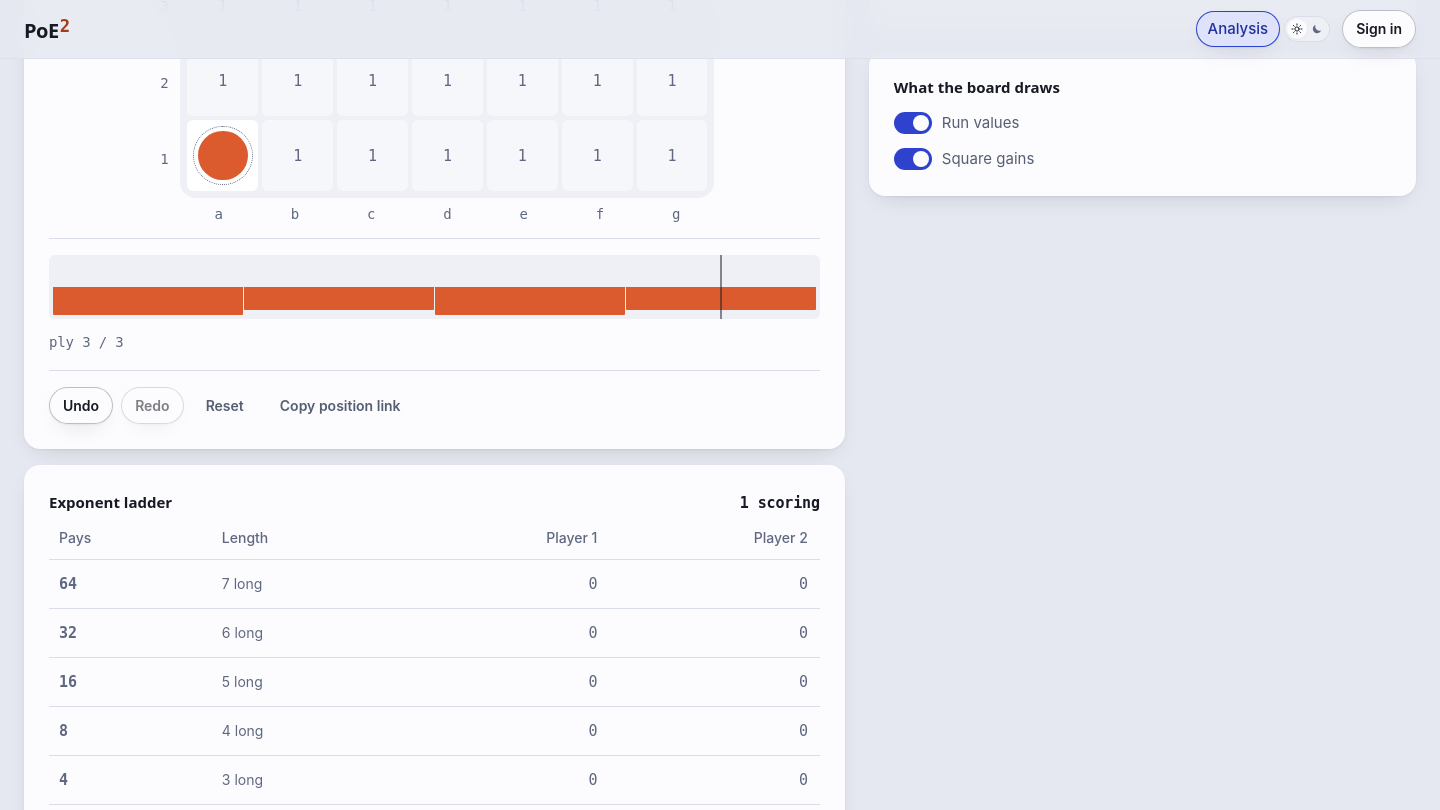
Test: analysis page › supports undo, redo, branching, and reset
(page scrolled)
Click the button "Undo" at (81, 406), box [49,387,113,424]
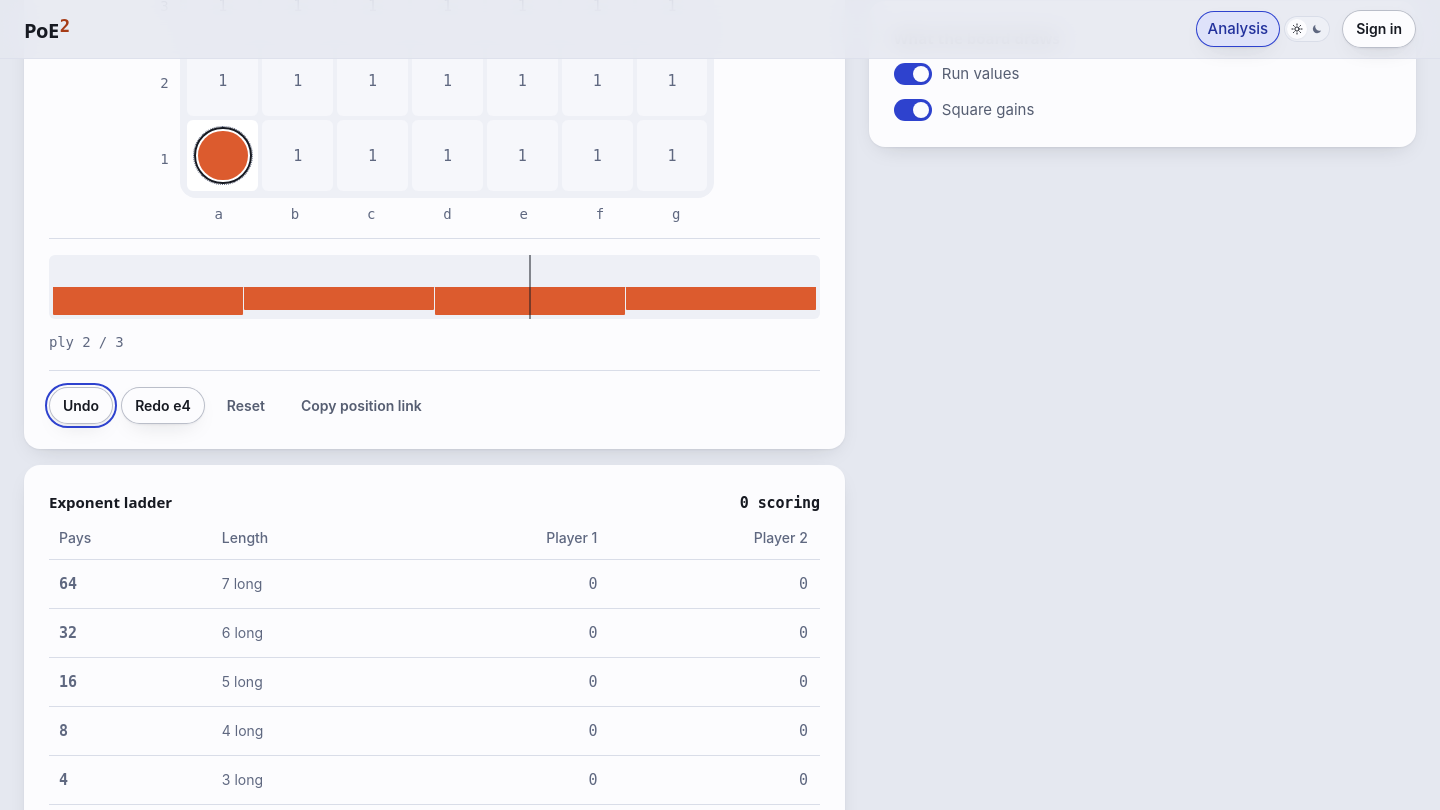
expect the button "Redo e4" is enabled: met
Click the button "Redo e4" at (163, 406), box [121,387,205,424]
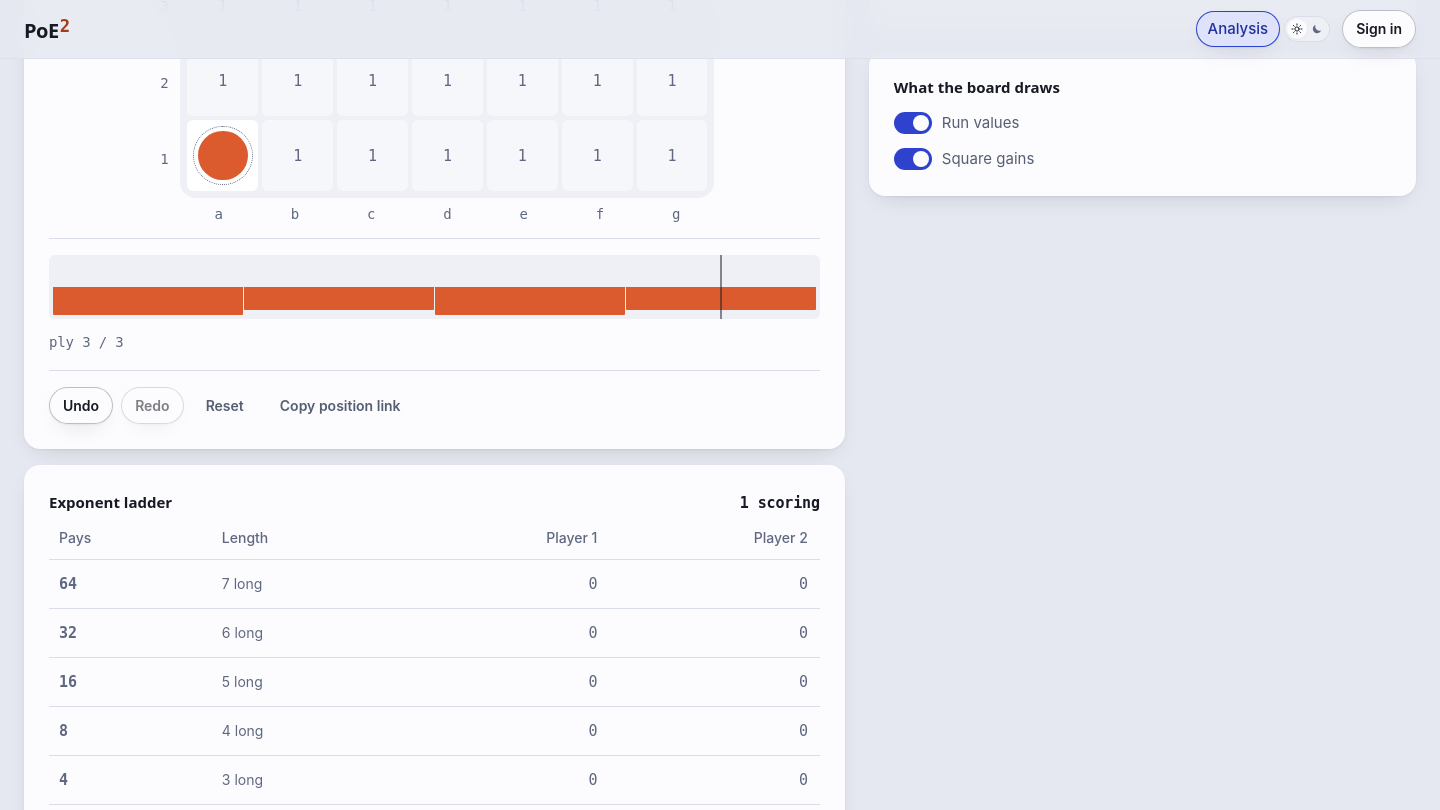
Click the button "Undo" at (81, 406), box [49,387,113,424]
(page scrolled)
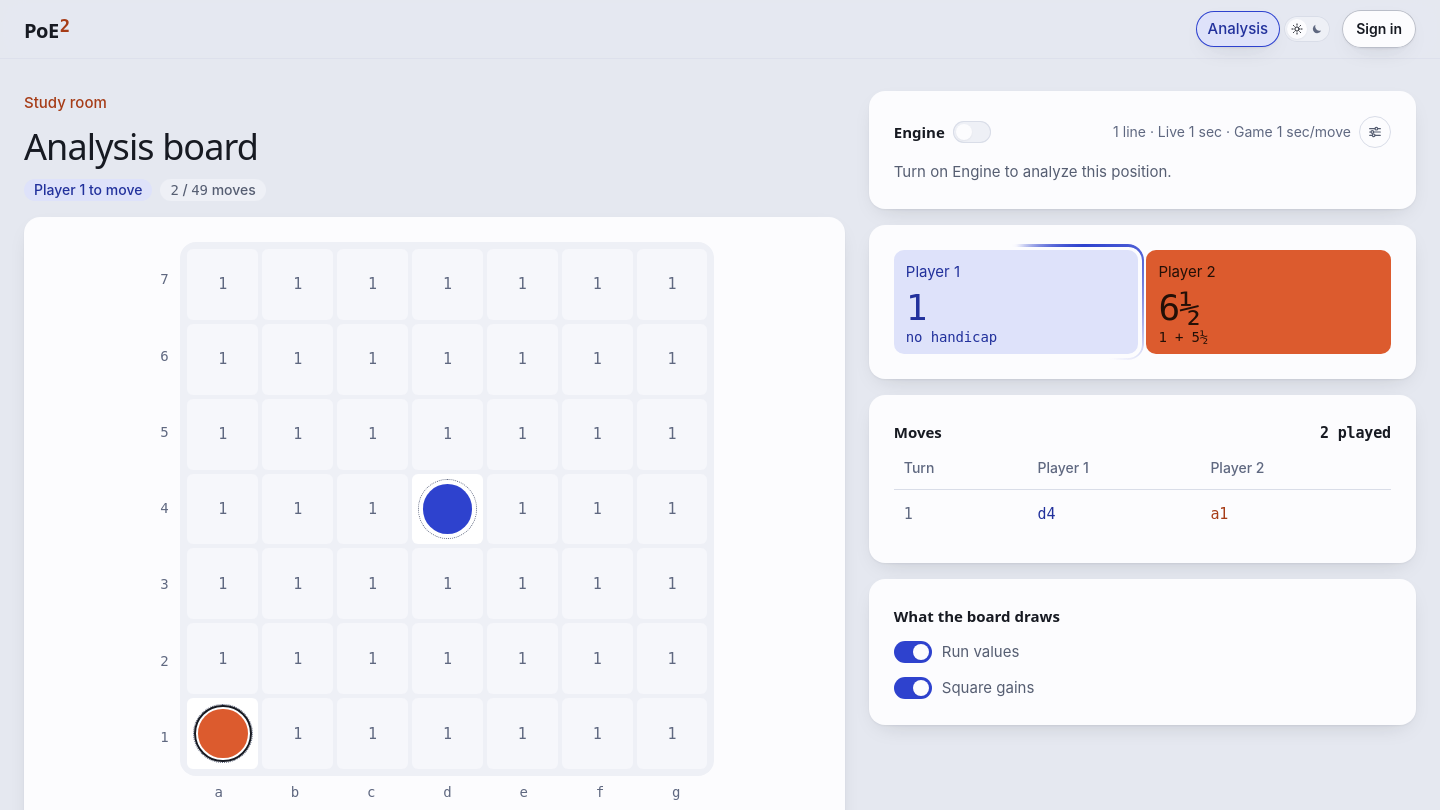
Click the 7th cell "1" at (672, 284), box [634,247,709,322]
(page scrolled)
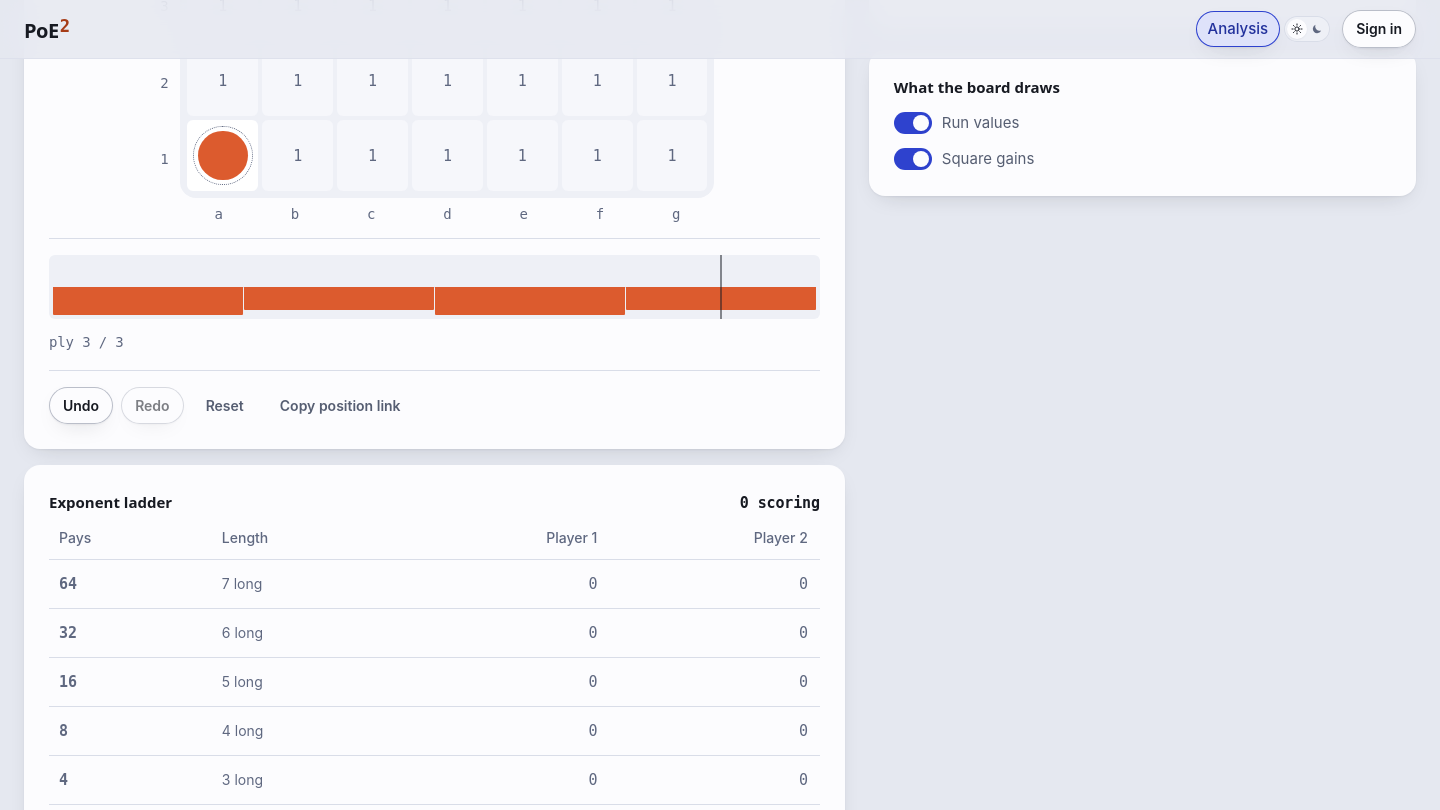
expect the button "Redo" is disabled: met, box [121,387,184,424]
Click the button "Reset" at (225, 406), box [192,387,258,424]
(page scrolled)
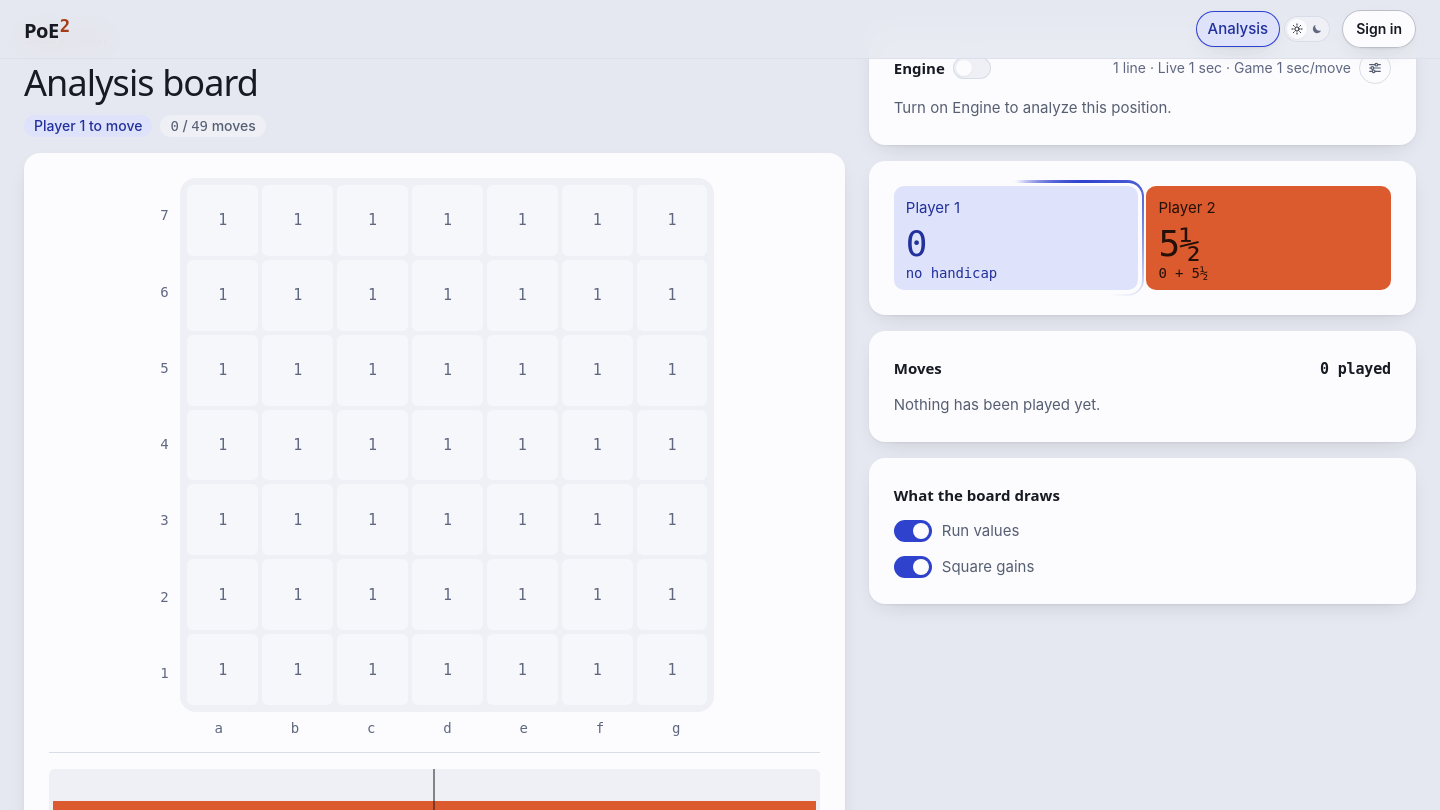
expect the text "Nothing has been played yet." is shown: met, box [894,395,1100,414]
